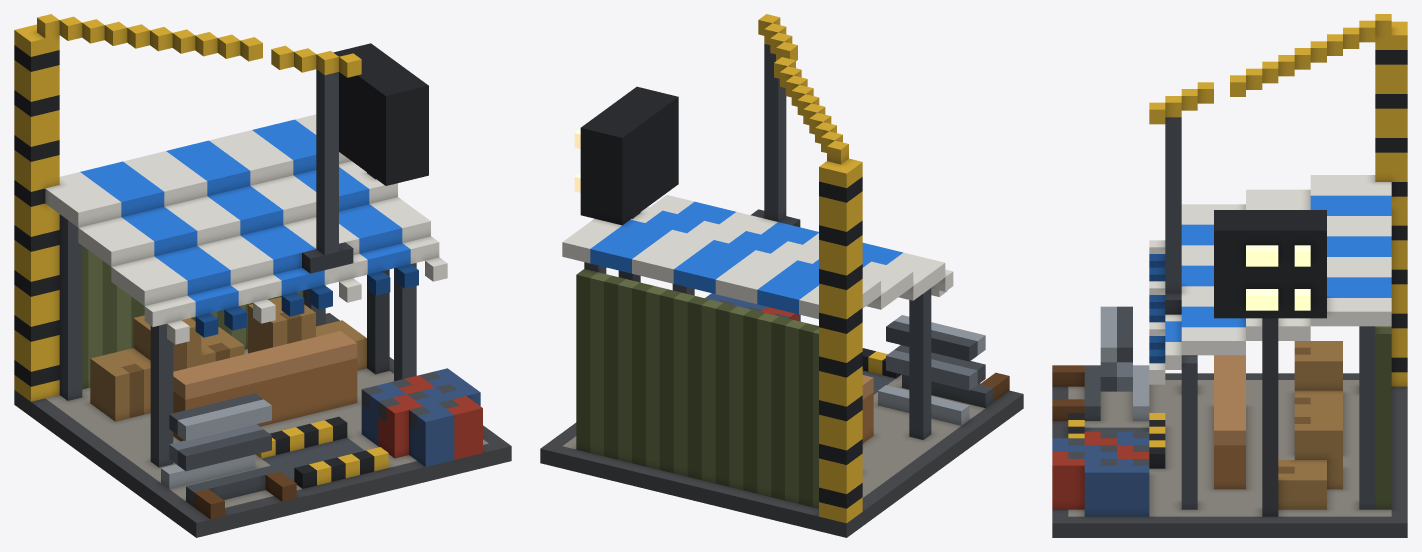
The model's file is cm_market_1.glb.
3 renders of one model, left to right at view 1: azimuth 30°, elevation 25°; view 2: azimuth 150°, elevation 25°; view 3: azimuth 270°, elevation 25°, orthographic. The views are drawn at different scales.
Visible parts, largest first — view 1: cm_market_1_body; view 2: cm_market_1_body; view 3: cm_market_1_body.
Boxes of the visible parts, <box> form: cm_market_1_body: <box>14,14,511,537</box>; cm_market_1_body: <box>540,14,1023,537</box>; cm_market_1_body: <box>1052,14,1407,537</box>.
Size of the model in its own units: 1.44 by 1.62 by 1.38.
1 material, 1 textured.
